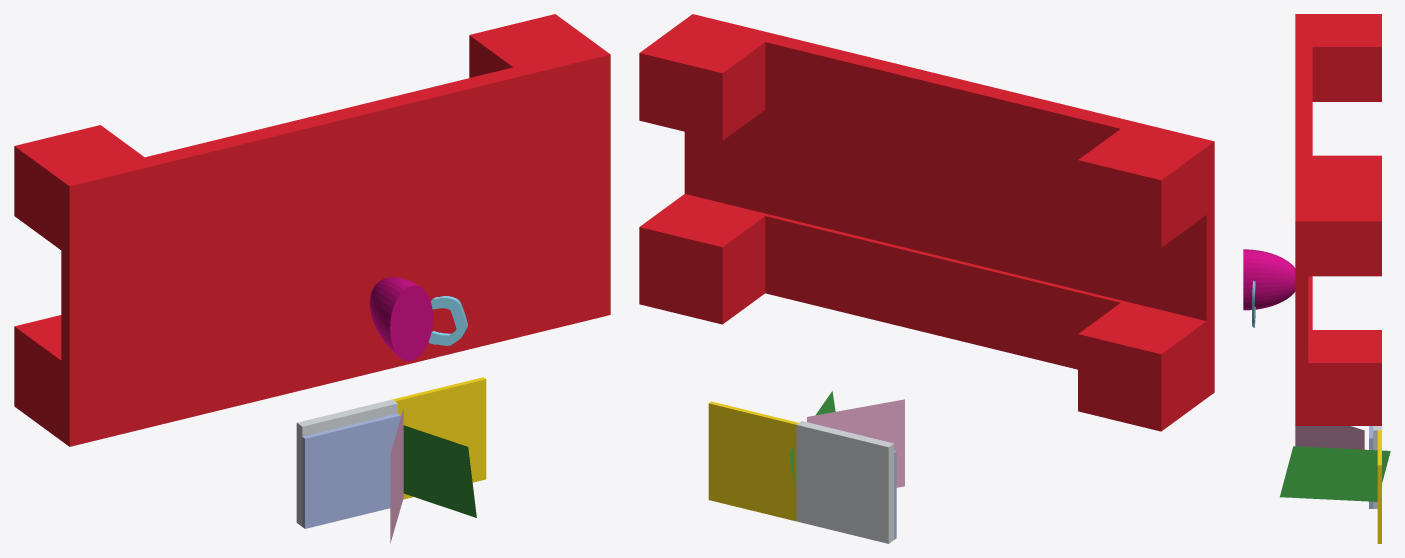
The model's file is tinker.obj.
3 views of the same model, side by side, from view 1: azimuth 30°, elevation 25°; view 2: azimuth 150°, elevation 25°; view 3: azimuth 270°, elevation 25° (orthographic). The views are drawn at different scales.
Visible parts, largest first — view 1: group_0_15277357, group_0_11452141, group_0_16768282, group_0_4634441, group_0_14093196, group_0_14541540, group_0_15708628, group_0_8768998; view 2: group_0_15277357, group_0_14541540, group_0_16768282, group_0_15708628; view 3: group_0_15277357, group_0_4634441, group_0_14093196, group_0_15708628, group_0_16768282.
Boxes of the visible parts, left/top/right/bottom form: group_0_15277357: left=14, top=14, right=610, bottom=446; group_0_11452141: left=302, top=413, right=400, bottom=528; group_0_16768282: left=393, top=377, right=486, bottom=499; group_0_4634441: left=403, top=425, right=476, bottom=517; group_0_14093196: left=369, top=277, right=432, bottom=360; group_0_14541540: left=296, top=399, right=397, bottom=526; group_0_15708628: left=390, top=408, right=403, bottom=543; group_0_8768998: left=428, top=296, right=467, bottom=345; group_0_15277357: left=639, top=14, right=1214, bottom=431; group_0_14541540: left=796, top=421, right=893, bottom=543; group_0_16768282: left=708, top=401, right=798, bottom=521; group_0_15708628: left=807, top=399, right=904, bottom=487; group_0_15277357: left=1295, top=14, right=1381, bottom=425; group_0_4634441: left=1280, top=446, right=1390, bottom=501; group_0_14093196: left=1243, top=249, right=1295, bottom=310; group_0_15708628: left=1295, top=426, right=1364, bottom=449; group_0_16768282: left=1377, top=430, right=1381, bottom=543.
Size of the model in its own units: 113 by 89 by 34.
